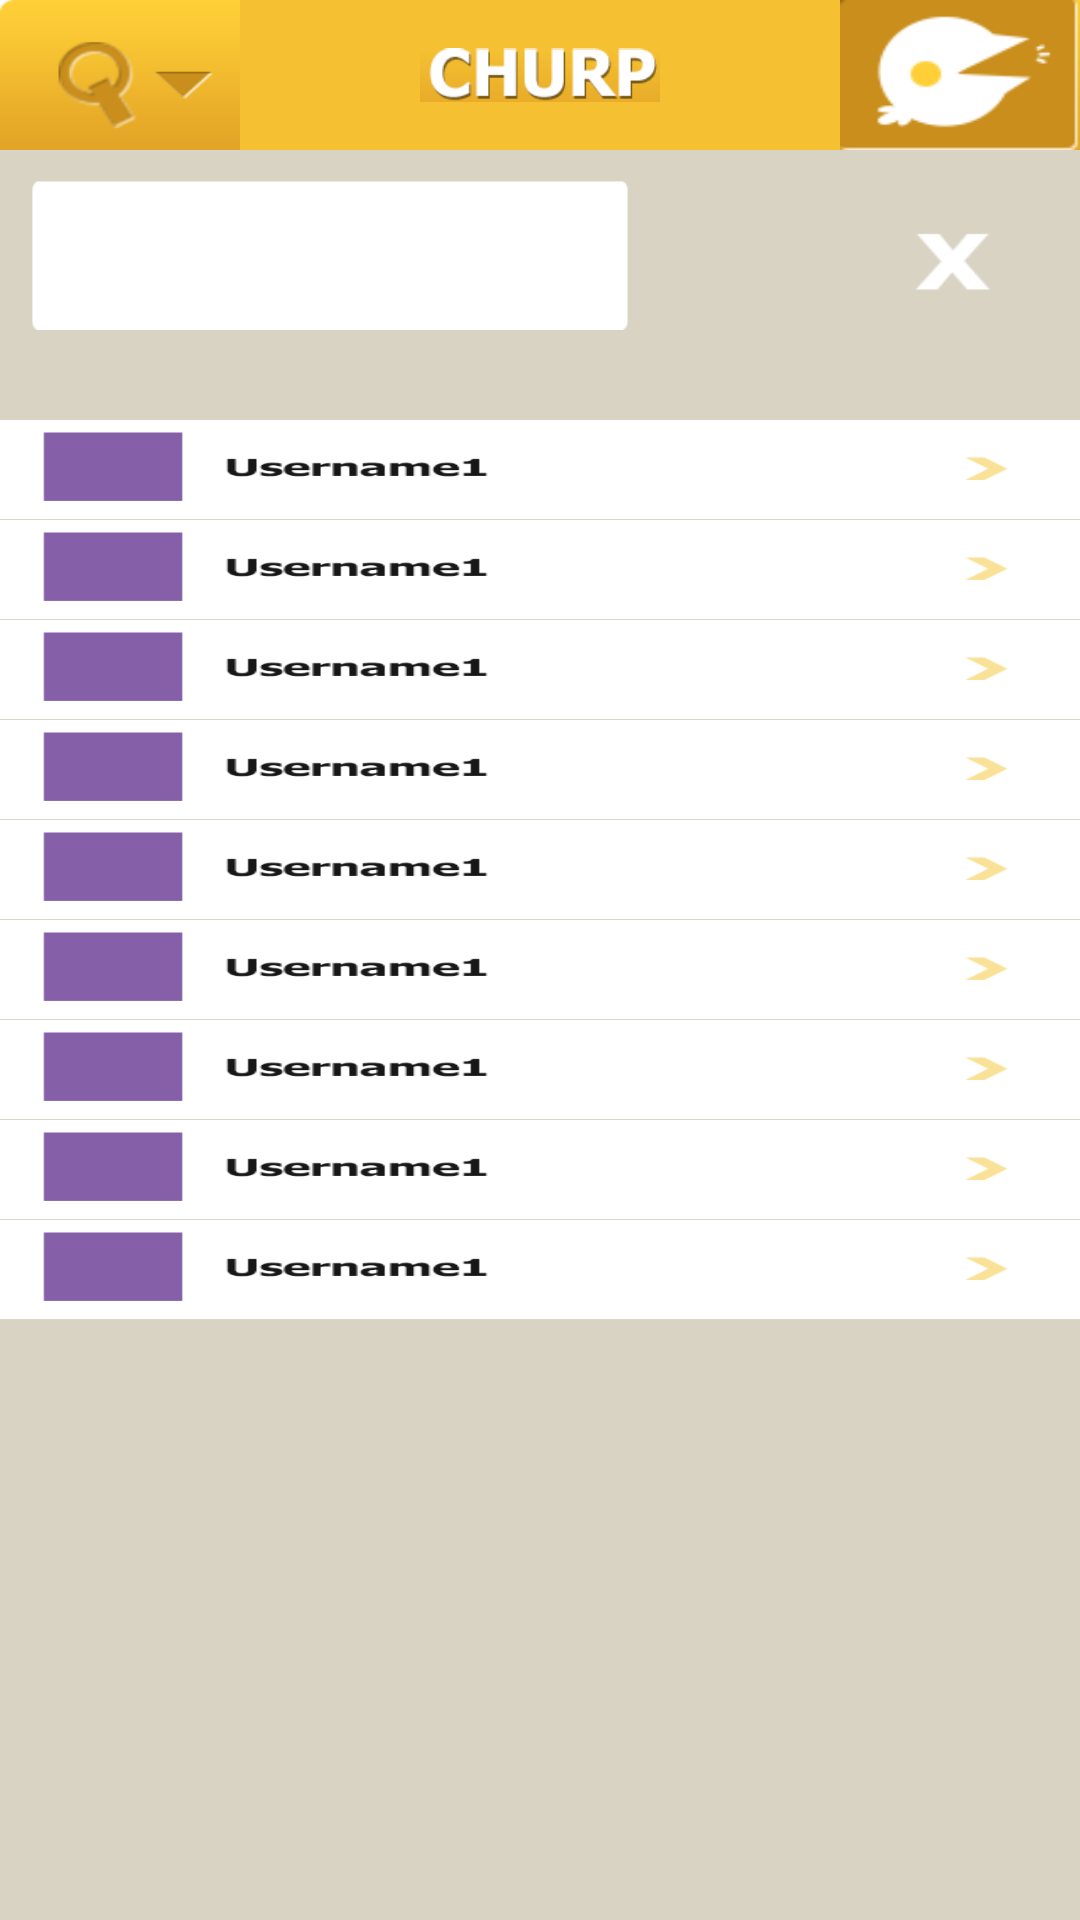

Where to tap for icons on this 1080 × 1920 app screen, as (x=x, y=y):
churp: (x=960, y=75)
search: (x=120, y=75)
